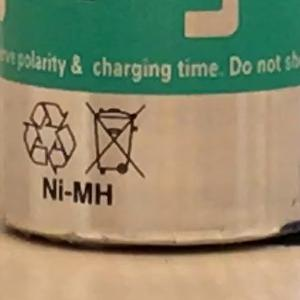keyword: (33, 172, 123, 210)
